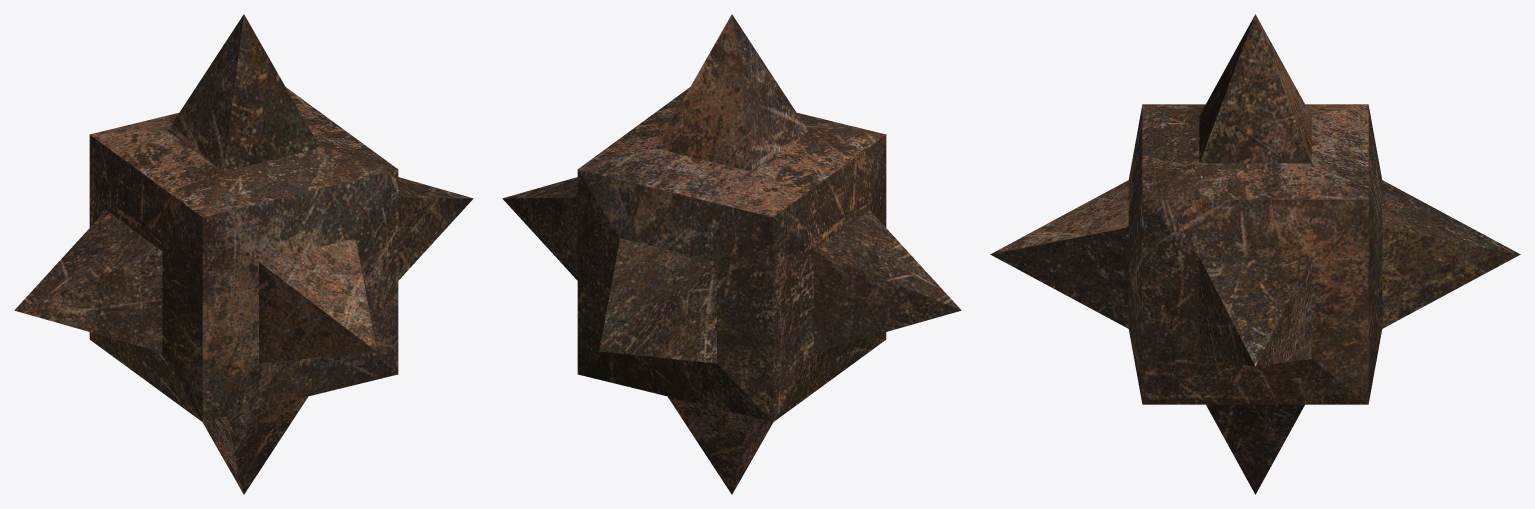
File: pinche.fbx
The picture shows the model from 3 angles, left to right: view 1: azimuth 30°, elevation 25°; view 2: azimuth 150°, elevation 25°; view 3: azimuth 270°, elevation 25°; orthographic projection.
Parts seen in each view (by area): view 1: Cube; view 2: Cube; view 3: Cube.
Boxes of the visible parts, x1,y1,x2,y2 form: Cube: (14, 14, 473, 494); Cube: (502, 14, 961, 494); Cube: (990, 14, 1520, 494).
Size of the model in its own units: 570 by 570 by 570.
1 material, 1 textured.
